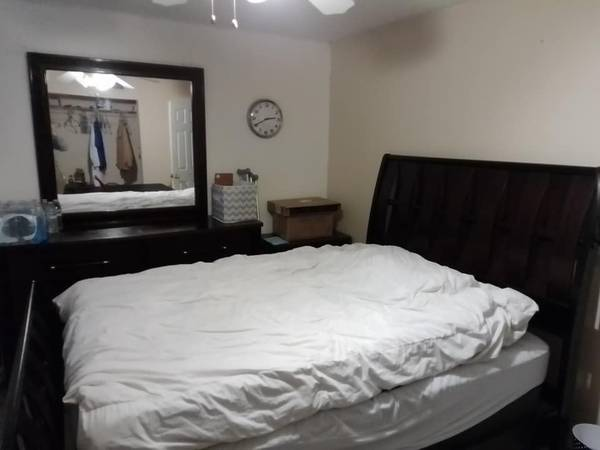bed: (9, 245, 584, 450)
